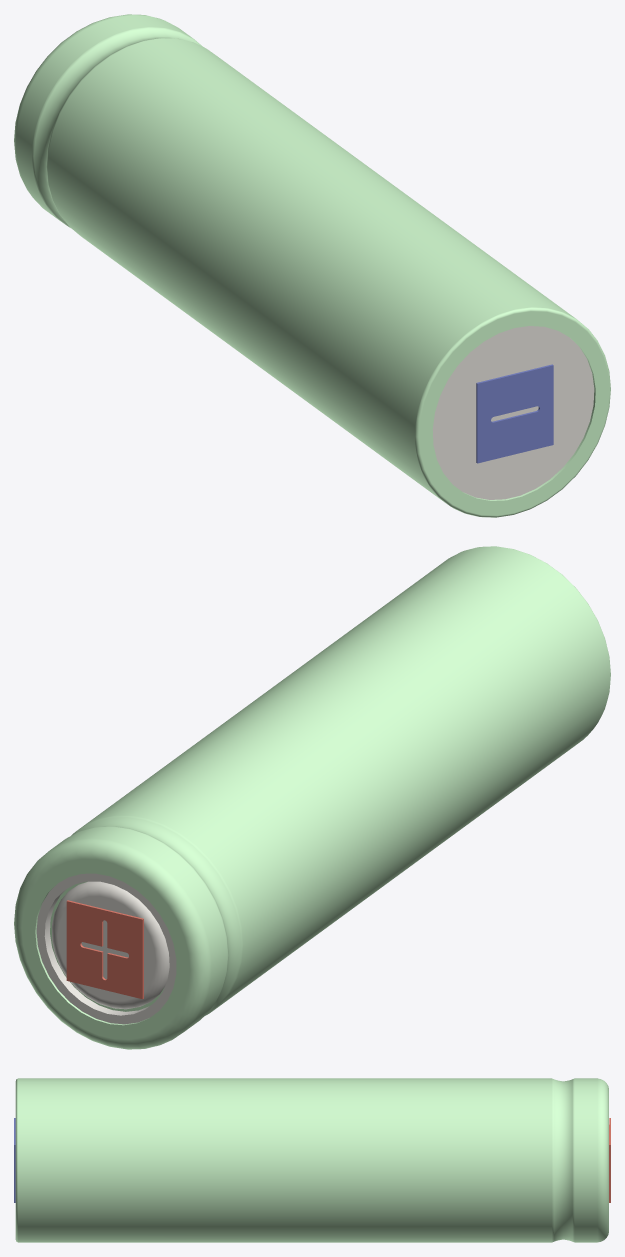
The picture shows the model from 3 angles, top to bottom: view 1: azimuth 30°, elevation 25°; view 2: azimuth 150°, elevation 25°; view 3: azimuth 270°, elevation 25°; orthographic projection. The views are drawn at different scales.
Visible parts, largest first — view 1: Battery, Pad_.001; view 2: Battery, Pad_; view 3: Battery.
Part boxes in pixels (x1,y1,x2,y2): Battery: [14, 14, 610, 517]; Pad_.001: [476, 364, 553, 463]; Battery: [14, 546, 610, 1049]; Pad_: [66, 900, 143, 999]; Battery: [15, 1078, 608, 1242].
Size of the model in its own units: 0.018 by 0.018 by 0.0654.
